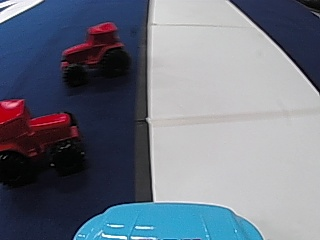tractor: (0, 97, 87, 185), (57, 20, 129, 87)
